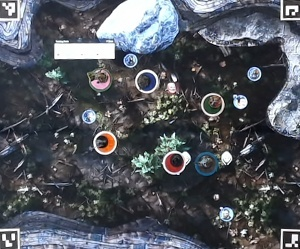blue: (135, 70, 157, 93)
brown_turquoise: (195, 152, 218, 175)
green: (202, 92, 225, 115)
orange: (92, 131, 115, 154)
pink_green: (89, 68, 112, 91)
red: (164, 150, 187, 173)
